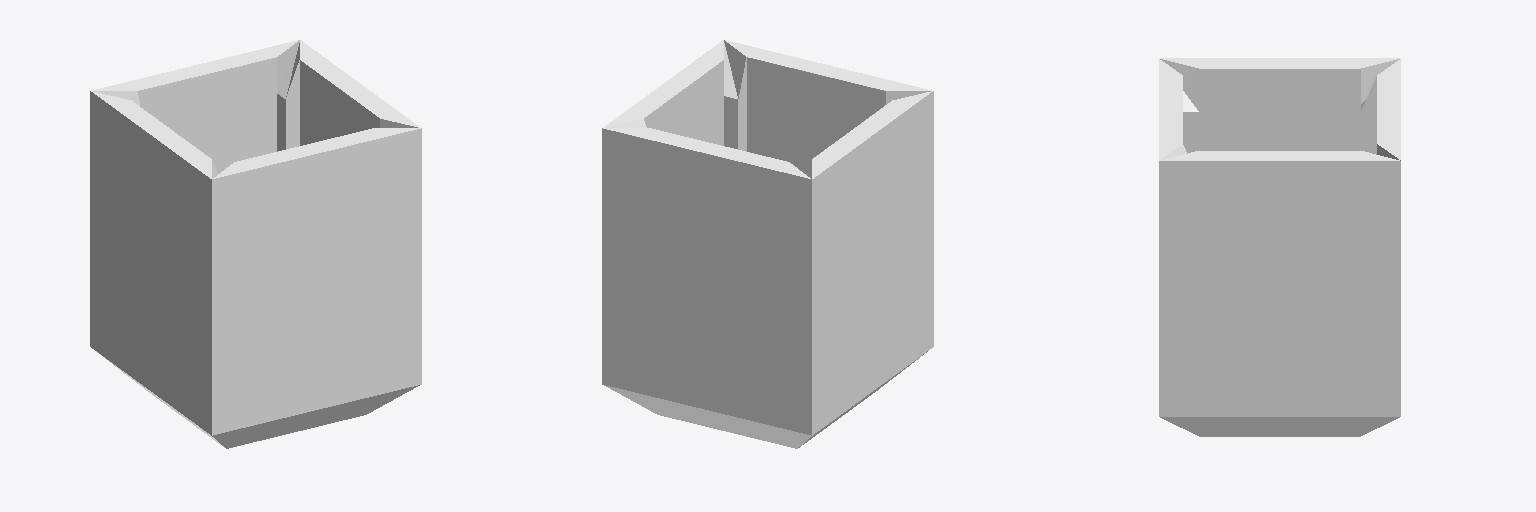
File: Server-Base.obj
The picture shows the model from 3 angles: view 1: azimuth 30°, elevation 25°; view 2: azimuth 150°, elevation 25°; view 3: azimuth 270°, elevation 25°; orthographic projection.
Parts seen in each view (by area): view 1: Server-Base; view 2: Server-Base; view 3: Server-Base.
Part boxes in pixels (bbox=[...]): Server-Base: bbox=[90, 40, 421, 448]; Server-Base: bbox=[602, 40, 933, 448]; Server-Base: bbox=[1159, 58, 1400, 436].
Bounding box in the file's own units: 1.5 × 2 × 1.5.